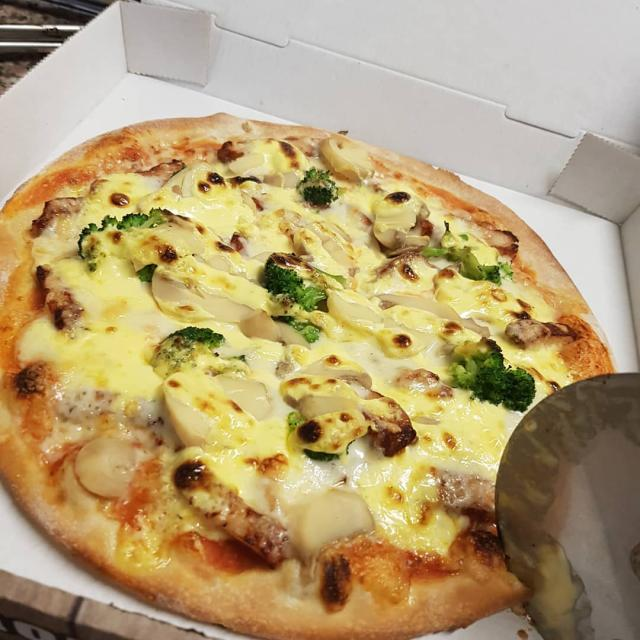pizza: (0, 113, 611, 640)
